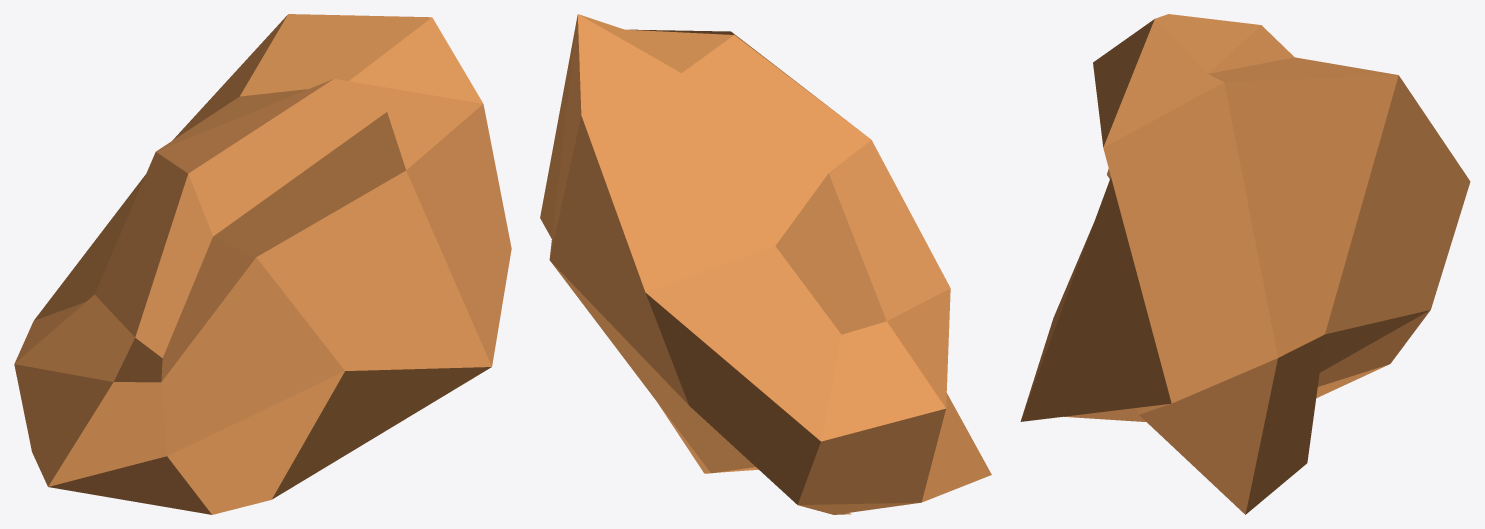
The model's file is SM_SmallRock_9.FBX.
3 renders of one model, left to right at view 1: azimuth 30°, elevation 25°; view 2: azimuth 150°, elevation 25°; view 3: azimuth 270°, elevation 25°, orthographic. The views are drawn at different scales.
Visible parts, largest first — view 1: Rock 9; view 2: Rock 9; view 3: Rock 9.
Boxes of the visible parts, left/top/right/bottom form: Rock 9: left=14, top=14, right=511, bottom=514; Rock 9: left=540, top=14, right=991, bottom=514; Rock 9: left=1020, top=14, right=1470, bottom=514.
Size of the model in its own units: 91.11 by 79.24 by 62.96.
